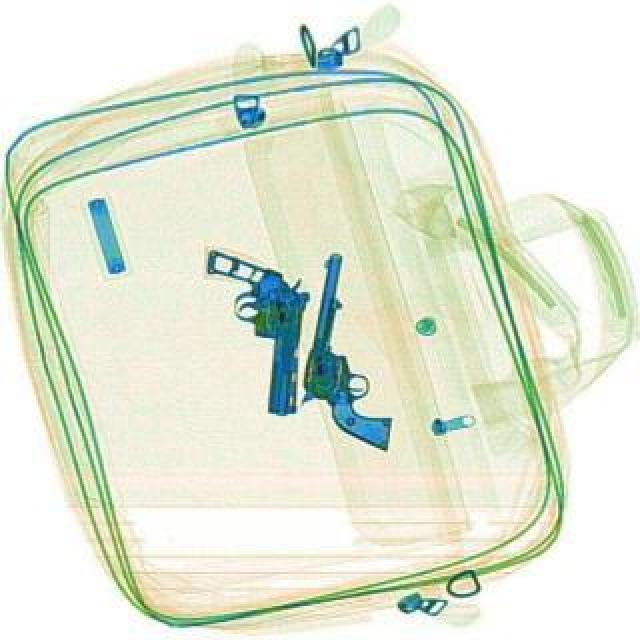gun: (286, 250, 422, 450), (198, 246, 310, 418)
